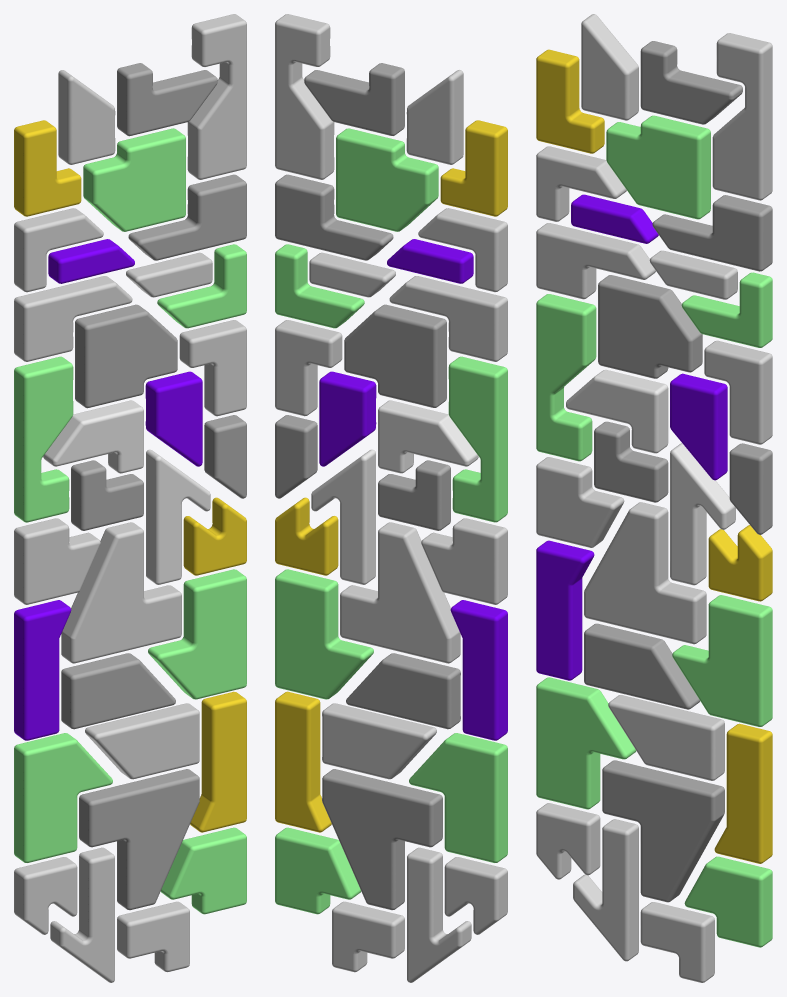
The model's file is column-pieces.glb.
The picture shows the model from 3 angles, left to right: view 1: azimuth 30°, elevation 25°; view 2: azimuth 150°, elevation 25°; view 3: azimuth 330°, elevation 25°; orthographic projection.
Visible parts, largest first — view 1: Object_29, Object_61, Object_60, Object_30, Object_38, Object_55, Object_56, Object_37, Object_57, Object_33, Object_31, Object_59 (+21 smaller); view 2: Object_29, Object_61, Object_60, Object_30, Object_38, Object_55, Object_56, Object_37, Object_57, Object_33, Object_31, Object_59 (+21 smaller); view 3: Object_61, Object_29, Object_60, Object_30, Object_38, Object_55, Object_37, Object_56, Object_31, Object_33, Object_57, Object_59 (+21 smaller).
Boxes of the visible parts, bbox=[...] form: Object_29: bbox=[79, 769, 199, 910]; Object_61: bbox=[61, 522, 181, 663]; Object_60: bbox=[148, 569, 246, 699]; Object_30: bbox=[14, 733, 112, 862]; Object_38: bbox=[83, 128, 185, 231]; Object_55: bbox=[75, 304, 177, 408]; Object_56: bbox=[14, 356, 73, 522]; Object_37: bbox=[187, 14, 246, 179]; Object_57: bbox=[14, 600, 71, 740]; Object_33: bbox=[190, 691, 246, 832]; Object_31: bbox=[85, 703, 199, 779]; Object_59: bbox=[61, 653, 175, 729]; Object_29: bbox=[322, 769, 442, 910]; Object_61: bbox=[340, 522, 460, 663]; Object_60: bbox=[275, 569, 373, 699]; Object_30: bbox=[409, 733, 507, 862]; Object_38: bbox=[336, 128, 438, 231]; Object_55: bbox=[344, 304, 446, 407]; Object_56: bbox=[448, 356, 507, 522]; Object_37: bbox=[275, 14, 334, 179]; Object_57: bbox=[450, 600, 507, 740]; Object_33: bbox=[275, 691, 331, 832]; Object_31: bbox=[322, 703, 436, 779]; Object_59: bbox=[346, 653, 460, 729]; Object_61: bbox=[584, 502, 706, 644]; Object_29: bbox=[602, 760, 724, 902]; Object_60: bbox=[672, 595, 772, 726]; Object_30: bbox=[536, 677, 636, 809]; Object_38: bbox=[606, 115, 710, 219]; Object_55: bbox=[598, 275, 702, 378]; Object_37: bbox=[712, 33, 772, 200]; Object_56: bbox=[536, 294, 596, 461]; Object_31: bbox=[608, 695, 724, 780]; Object_33: bbox=[714, 723, 772, 863]; Object_57: bbox=[536, 540, 594, 680]; Object_59: bbox=[584, 623, 699, 709].
Bounding box in the file's own units: 3.47 × 13.87 × 0.3353.
